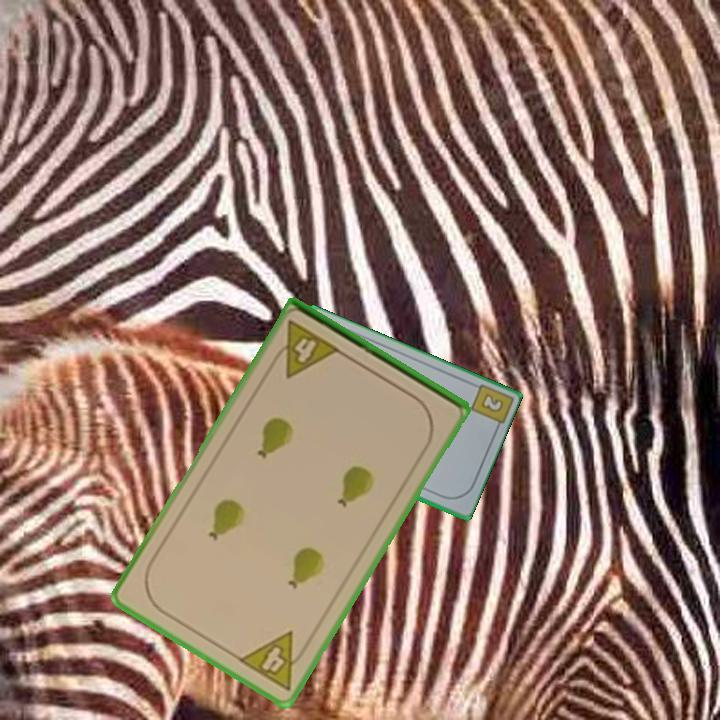2b: (477, 390, 506, 415)
4p: (234, 627, 313, 694), (266, 317, 343, 381)
